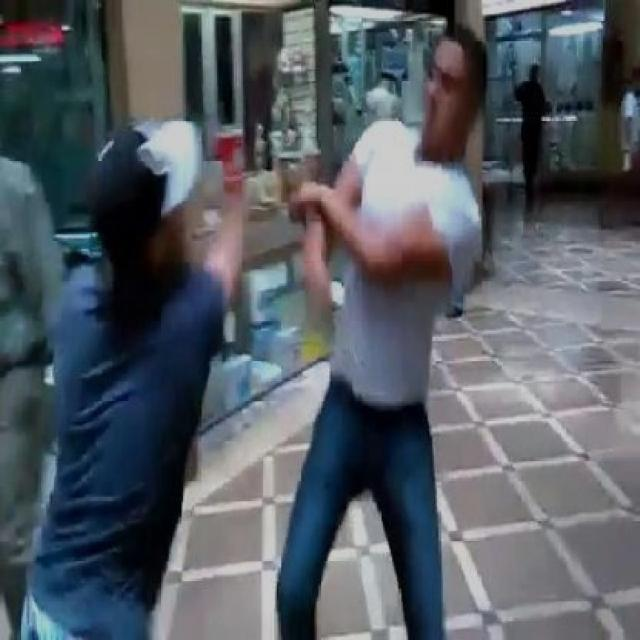fight: (26, 32, 510, 639)
